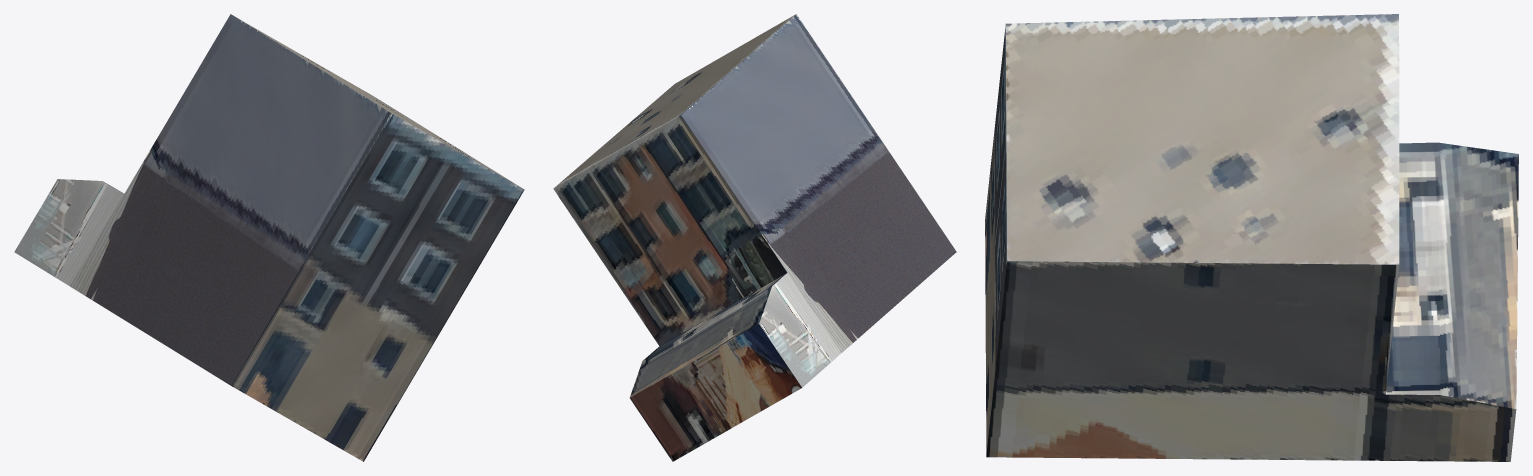
3 views of the same model, side by side, from view 1: azimuth 30°, elevation 25°; view 2: azimuth 150°, elevation 25°; view 3: azimuth 270°, elevation 25° (orthographic). The views are drawn at different scales.
Visible parts, largest first — view 1: BAG_0599100000767287 (×4); view 2: BAG_0599100000767287 (×4); view 3: BAG_0599100000767287 (×4).
Boxes of the visible parts, <box> form: BAG_0599100000767287 (×4): <box>14,14,524,461</box>; BAG_0599100000767287 (×4): <box>553,14,956,461</box>; BAG_0599100000767287 (×4): <box>985,14,1518,461</box>.
Bounding box in the file's own units: 17.04 × 17.26 × 17.73.
1 material, 1 textured.
